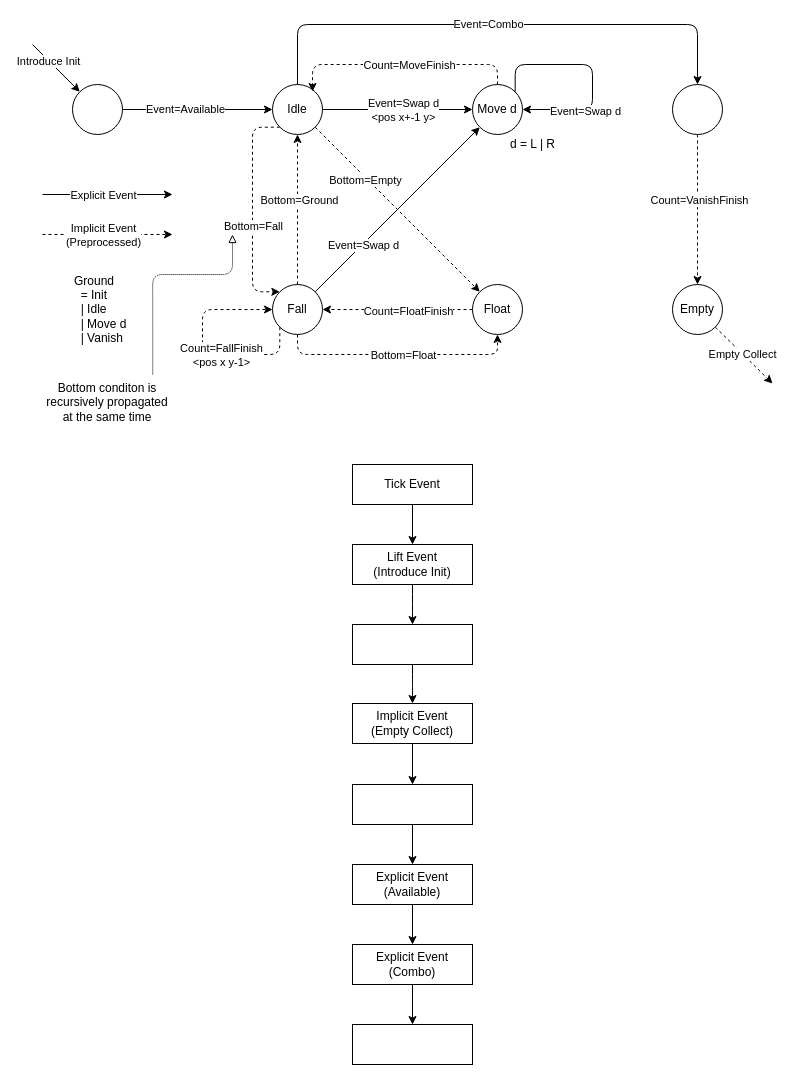
Image size: 799x1082. Some labels were removed from this diagram. Each missing label, with the box of its shape:
Explicit Event (Swap): (352, 1024, 472, 1064)
Implicit Event (Bottom Condition): (352, 784, 472, 824)
Implicit Event (Count Finish): (352, 624, 472, 664)
Init: (72, 84, 122, 134)
Vanish: (672, 84, 722, 134)
